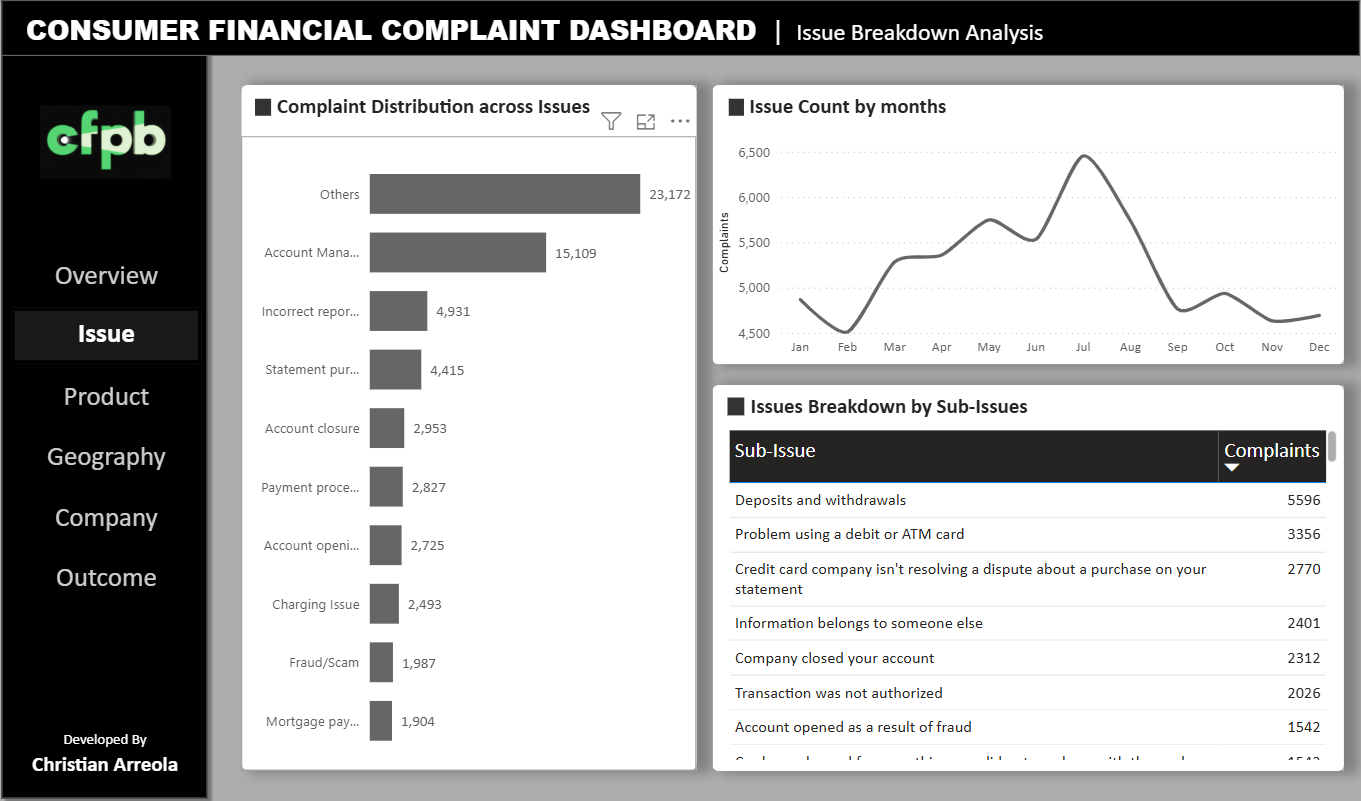

Layout of this report page (visuals, bound fields, positions):
{"tool":"powerbi","page":{"name":"Issue","canvas":[1280,720],"ordinal":1},"visuals":[{"type":"shape","box":[39.6,34.8,197.8,685.5],"z":1000},{"type":"shape","box":[46.2,0,1213.8,50],"z":2000},{"type":"textbox","box":[46.7,4.4,998.9,50],"z":3000},{"type":"shape","box":[259.7,76.5,406.9,611.7],"z":4000},{"type":"barChart","fields":{"Category":["Top Issues.Issue"],"Y":["CountNonNull(Top Issues.Issue)"]},"box":[260,121.4,407.1,567.1],"z":5000},{"type":"shape","box":[681,76.5,564.1,249.6],"z":6000},{"type":"lineChart","fields":{"Y":["CountNonNull(Top Issues.Issue)"],"Category":["Top Issues.Month"]},"box":[681,121.2,564.1,204.9],"z":7000},{"type":"shape","box":[681,343.4,564.1,344.8],"z":8000},{"type":"actionButton","box":[54.3,220.4,170,50],"z":9000},{"type":"actionButton","box":[54.3,274.4,170,50],"z":10000},{"type":"actionButton","box":[54.3,328.4,170,50],"z":11000},{"type":"actionButton","box":[54.3,382.4,170,50],"z":12000},{"type":"actionButton","box":[54.3,436.4,170,50],"z":13000},{"type":"actionButton","box":[54.3,490.4,170,50],"z":14000},{"type":"textbox","box":[286.4,77.9,370.3,37.2],"z":15000},{"type":"shape","box":[272.1,88.7,14.4,15.6],"z":16000},{"type":"tableEx","fields":{"Values":["Top Issues.Sub-Issue","CountNonNull(Top Issues.Sub-Issue)"]},"box":[690,380,553.8,303.8],"z":17000},{"type":"textbox","box":[710,346.2,370,36.2],"z":18000},{"type":"shape","box":[695,355,15,16.2],"z":19000},{"type":"textbox","box":[709.1,78.2,370.9,37.3],"z":20000},{"type":"shape","box":[695.5,88.2,13.6,15.5],"z":21000},{"type":"textbox","box":[91.1,645.6,96.7,30],"z":22000},{"type":"textbox","box":[58.2,666.4,160.9,36.4],"z":23000},{"type":"image","box":[75,89.5,128.4,75],"z":24000}]}

Visuals, with their boxes on the page's 1280x720 design canvas (x1, y1, x2, y2). These are canvas units, not pixel positions in the 1361x801 screenshot, which may show the page scaled, cropped or inside an application window:
shape: 40 35 237 720
shape: 46 0 1260 50
textbox: 47 4 1046 54
shape: 260 76 667 688
barChart - Top Issues.Issue x CountNonNull(Top Issues.Issue): 260 121 667 688
shape: 681 76 1245 326
lineChart - CountNonNull(Top Issues.Issue) x Top Issues.Month: 681 121 1245 326
shape: 681 343 1245 688
actionButton: 54 220 224 270
actionButton: 54 274 224 324
actionButton: 54 328 224 378
actionButton: 54 382 224 432
actionButton: 54 436 224 486
actionButton: 54 490 224 540
textbox: 286 78 657 115
shape: 272 89 286 104
tableEx - Top Issues.Sub-Issue x CountNonNull(Top Issues.Sub-Issue): 690 380 1244 684
textbox: 710 346 1080 382
shape: 695 355 710 371
textbox: 709 78 1080 116
shape: 696 88 709 104
textbox: 91 646 188 676
textbox: 58 666 219 703
image: 75 90 203 164
